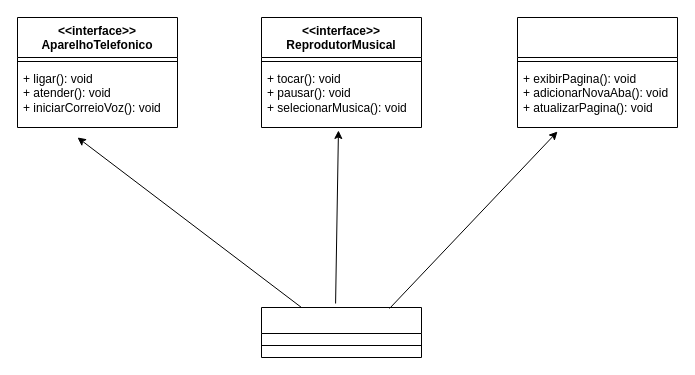
The diagram is 695 pixels wide and 375 high, and some of its shapes have lost their labels. Each missing label, with the box of its shape:
<<interface>> NavegadorNaInternet: (516, 16, 678, 128)
Iphone: (260, 306, 422, 358)
